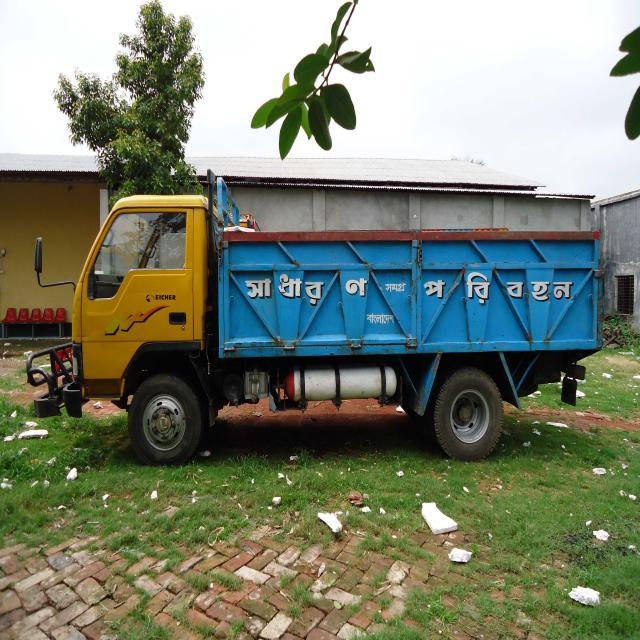pickup-van: (17, 147, 610, 496)
